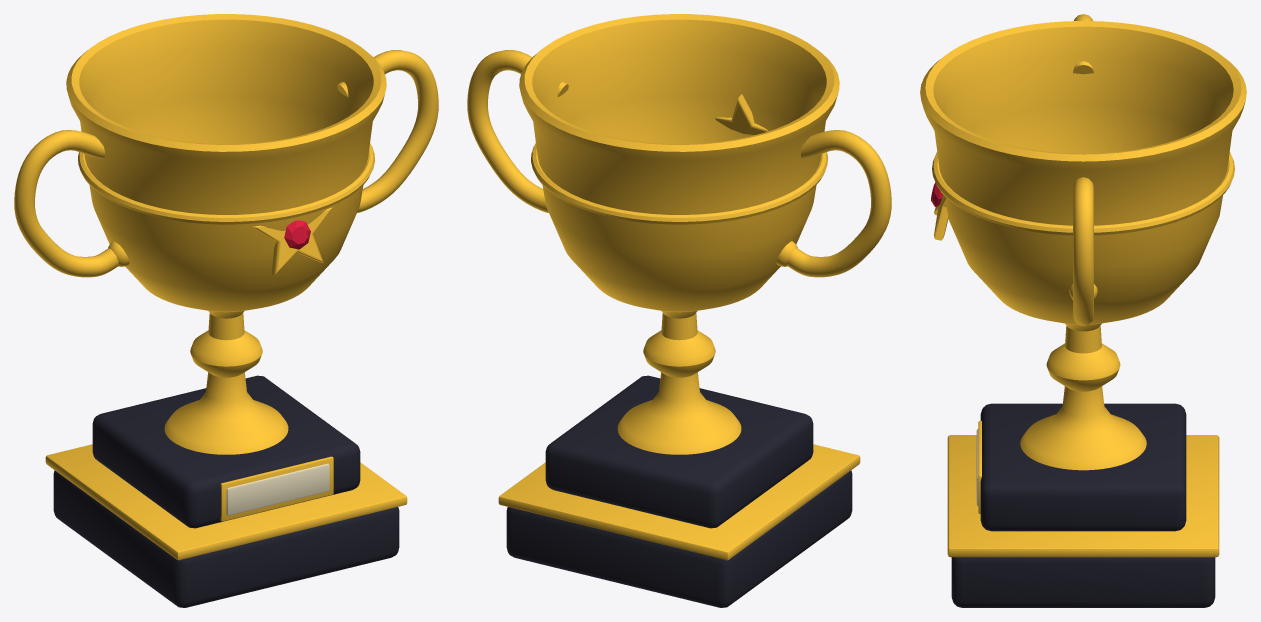
Rendered from GoldTrophy.fbx.
3 renders of one model, left to right at view 1: azimuth 30°, elevation 25°; view 2: azimuth 150°, elevation 25°; view 3: azimuth 270°, elevation 25°, orthographic.
Parts seen in each view (by area): view 1: Gold, Marble, Plate, Ruby; view 2: Gold, Marble; view 3: Gold, Marble.
Boxes of the visible parts, x1=… form: Gold: x1=14, y1=14, x2=438, y2=560; Marble: x1=53, y1=375, x2=399, y2=607; Plate: x1=226, y1=463, x2=329, y2=515; Ruby: x1=284, y1=220, x2=310, y2=249; Gold: x1=467, y1=14, x2=891, y2=560; Marble: x1=506, y1=375, x2=852, y2=607; Gold: x1=920, y1=14, x2=1246, y2=557; Marble: x1=951, y1=403, x2=1215, y2=607.
Size of the model in its own units: 188 by 196 by 124.
